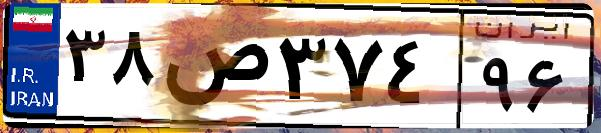3: (270, 28, 330, 110), (57, 26, 110, 100)
4: (385, 28, 445, 110)
6: (525, 38, 570, 115)
7: (330, 28, 385, 110)
8: (110, 28, 158, 98)
9: (475, 38, 525, 113)
ص: (158, 20, 270, 120)
